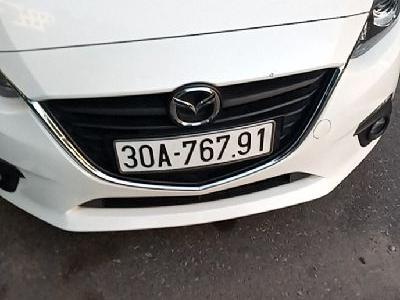lisence: (112, 120, 275, 175)
